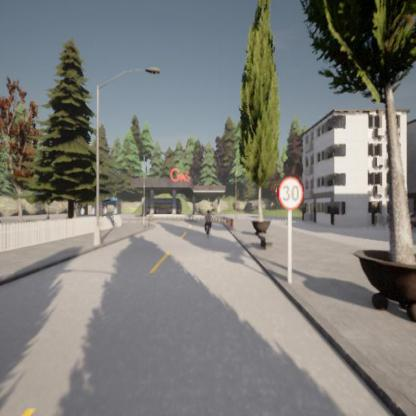motobike: (204, 211, 214, 239)
traffic_sign_30: (278, 176, 304, 210)
